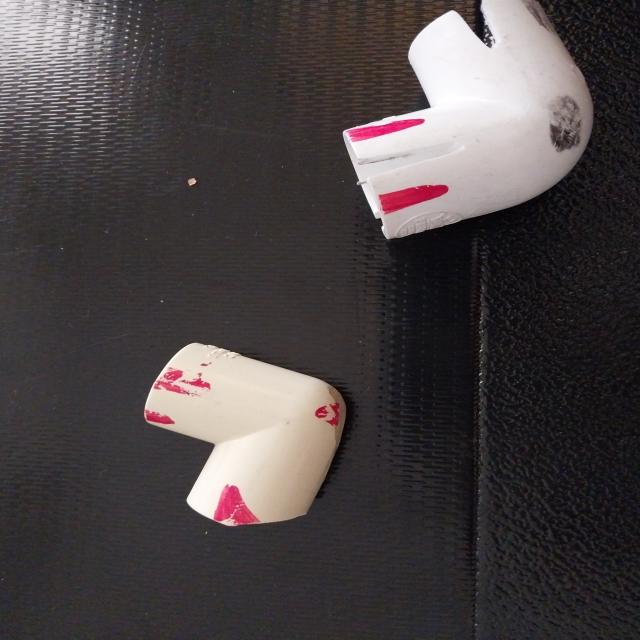Defective: (362, 181, 462, 222), (209, 477, 271, 531), (153, 369, 226, 403), (442, 5, 503, 45), (352, 118, 425, 148), (350, 149, 443, 171), (552, 94, 586, 154)
L Joint: (342, 0, 595, 243), (143, 343, 348, 528)
